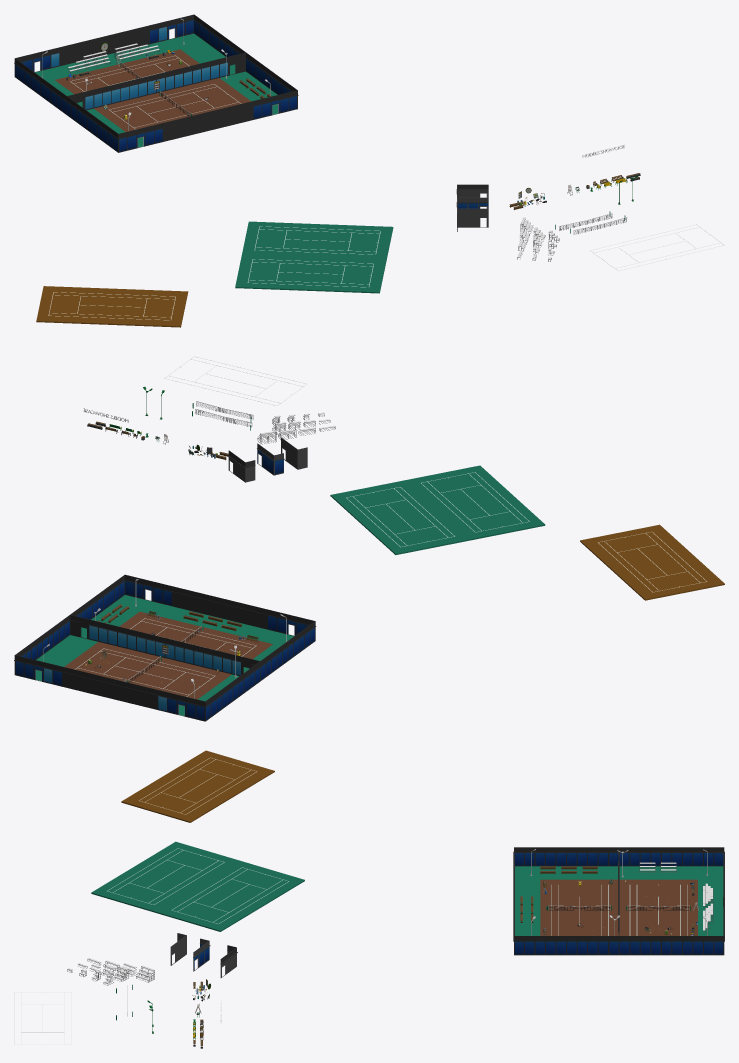
The model's file is Tennis_Props_-_PolyPack_-_LowPoly_3D_Assets.glb.
3 views of the same model, one above another, from view 1: azimuth 30°, elevation 25°; view 2: azimuth 150°, elevation 25°; view 3: azimuth 270°, elevation 25° (orthographic). The views are drawn at different scales.
Parts seen in each view (by area): view 1: TennisCourtV1_Double_Main_Slot_0, TennisCourtV1_Double.001_Main_Slot_0, TennisCourtV1_Main_Slot_0, Ground_NonActive - GREEN_0, TennisCourtWallV3.003_Main_Slot_0, TennisCourtWallV3.002_Main_Slot_0, TennisCourtWallV2.015_SeeThrough_Slot_0, TennisCourtWallV2.015_Main_Slot_0, TennisCourtWallV2.016_SeeThrough_Slot_0, TennisCourtWallV2.016_Main_Slot_0, TennisCourtWallV1.005_SeeThrough_Slot_0, TennisCourtWallV1.006_SeeThrough_Slot_0 (+3 smaller); view 2: TennisCourtV1_Double_Main_Slot_0, TennisCourtV1_Double.001_Main_Slot_0, TennisCourtV1_Main_Slot_0, Ground_NonActive - GREEN_0, TennisCourtWallV3.003_Main_Slot_0, TennisCourtWallV3.002_Main_Slot_0, TennisCourtWallV2.015_SeeThrough_Slot_0, TennisCourtWallV2.015_Main_Slot_0, TennisCourtWallV2.016_SeeThrough_Slot_0, TennisCourtWallV1.005_SeeThrough_Slot_0, TennisCourtWallV2.016_Main_Slot_0, TennisCourtWallV1.006_SeeThrough_Slot_0 (+3 smaller); view 3: TennisCourtV1_Double_Main_Slot_0, TennisCourtV1_Double.001_Main_Slot_0, TennisCourtV1_Main_Slot_0, Ground_NonActive - GREEN_0, TennisCourtWallV2.016_SeeThrough_Slot_0, TennisCourtWallV2.015_SeeThrough_Slot_0, TennisCourtWallV2.016_Main_Slot_0, TennisCourtWallV2.015_Main_Slot_0.
Boxes of the visible parts, x1,y1,x2,y2 form: TennisCourtV1_Double_Main_Slot_0: [235, 221, 393, 293]; TennisCourtV1_Double.001_Main_Slot_0: [55, 49, 251, 131]; TennisCourtV1_Main_Slot_0: [36, 286, 188, 327]; Ground_NonActive - GREEN_0: [35, 33, 277, 147]; TennisCourtWallV3.003_Main_Slot_0: [163, 101, 253, 141]; TennisCourtWallV3.002_Main_Slot_0: [60, 25, 149, 65]; TennisCourtWallV2.015_SeeThrough_Slot_0: [20, 68, 112, 147]; TennisCourtWallV2.015_Main_Slot_0: [19, 62, 113, 148]; TennisCourtWallV2.016_SeeThrough_Slot_0: [199, 24, 290, 94]; TennisCourtWallV2.016_Main_Slot_0: [198, 18, 292, 94]; TennisCourtWallV1.005_SeeThrough_Slot_0: [85, 80, 155, 109]; TennisCourtWallV1.006_SeeThrough_Slot_0: [157, 62, 227, 91]; TennisCourtV1_Double_Main_Slot_0: [330, 465, 545, 554]; TennisCourtV1_Double.001_Main_Slot_0: [64, 611, 272, 699]; TennisCourtV1_Main_Slot_0: [580, 524, 724, 600]; Ground_NonActive - GREEN_0: [36, 595, 293, 715]; TennisCourtWallV3.003_Main_Slot_0: [172, 586, 267, 629]; TennisCourtWallV3.002_Main_Slot_0: [62, 666, 157, 709]; TennisCourtWallV2.015_SeeThrough_Slot_0: [211, 631, 309, 715]; TennisCourtWallV2.015_Main_Slot_0: [211, 625, 310, 717]; TennisCourtWallV2.016_SeeThrough_Slot_0: [22, 585, 119, 659]; TennisCourtWallV1.005_SeeThrough_Slot_0: [165, 644, 240, 675]; TennisCourtWallV2.016_Main_Slot_0: [20, 578, 119, 659]; TennisCourtWallV1.006_SeeThrough_Slot_0: [89, 625, 164, 656]; TennisCourtV1_Double_Main_Slot_0: [91, 841, 304, 931]; TennisCourtV1_Double.001_Main_Slot_0: [540, 879, 697, 935]; TennisCourtV1_Main_Slot_0: [121, 750, 274, 822]; Ground_NonActive - GREEN_0: [515, 866, 723, 935]; TennisCourtWallV2.016_SeeThrough_Slot_0: [525, 941, 713, 954]; TennisCourtWallV2.015_SeeThrough_Slot_0: [525, 853, 713, 865]; TennisCourtWallV2.016_Main_Slot_0: [524, 936, 713, 955]; TennisCourtWallV2.015_Main_Slot_0: [524, 847, 713, 866].
Bounding box in the file's own units: 134 × 6.07 × 135.
4 materials, 2 textured.
